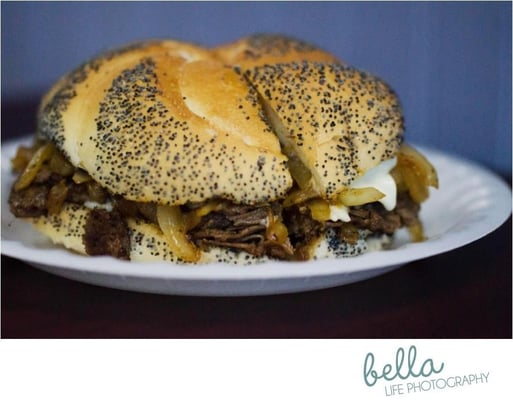soup: (15, 35, 424, 268)
